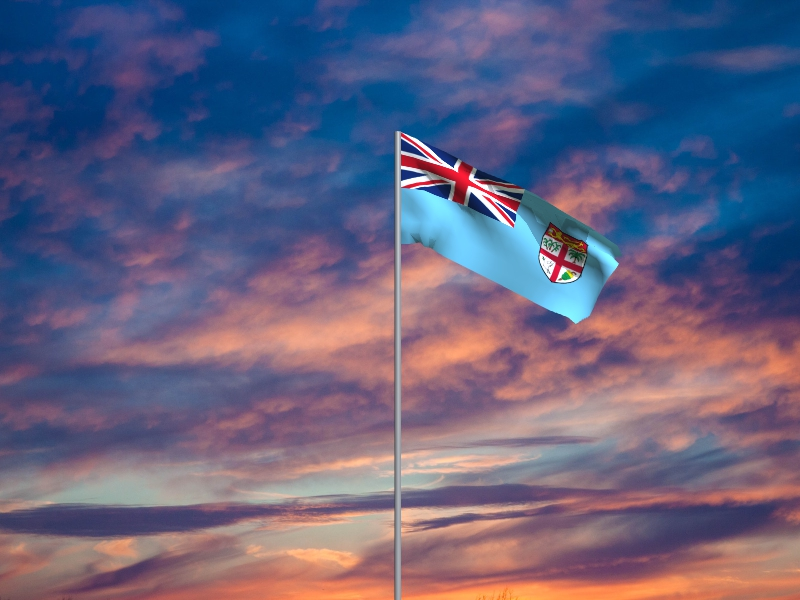fj: (402, 133, 625, 326)
